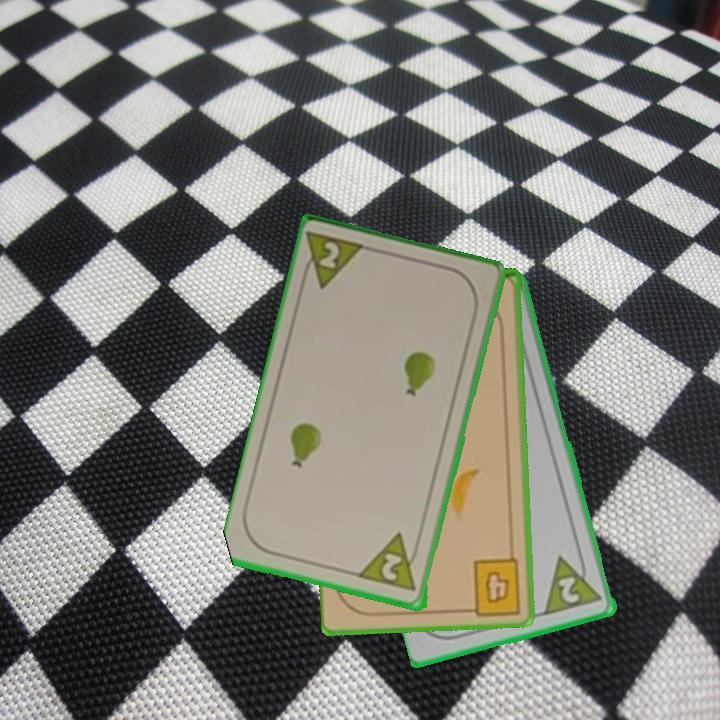2p: (297, 228, 371, 293), (541, 548, 606, 619), (378, 549, 407, 584)
4b: (462, 554, 524, 617)
